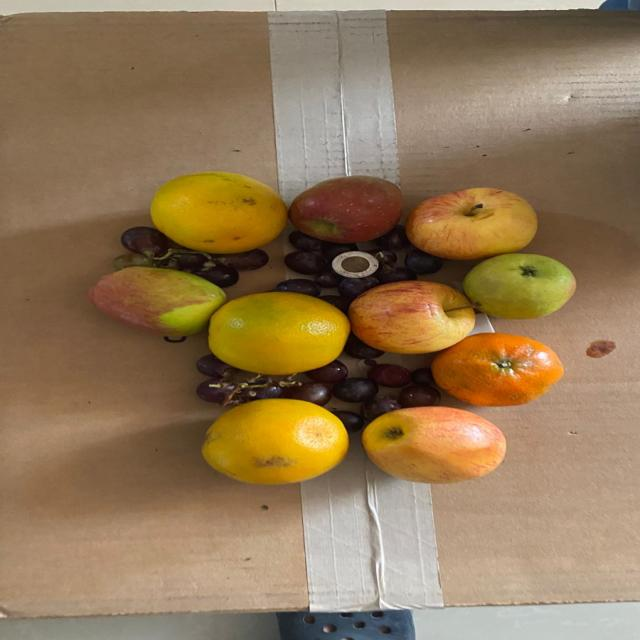moneda: (337, 250, 372, 275)
